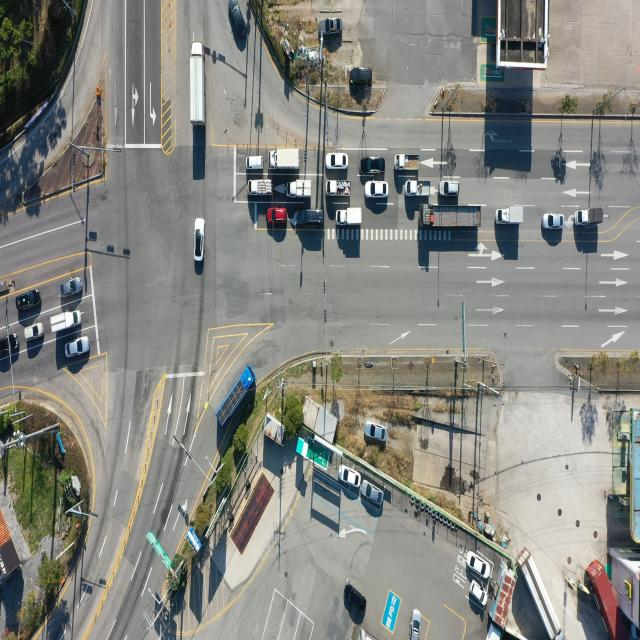car: (227, 0, 247, 41), (343, 582, 367, 612), (469, 553, 492, 580), (294, 208, 322, 228), (318, 16, 344, 37), (361, 483, 384, 506), (65, 338, 89, 360), (17, 290, 42, 311), (340, 464, 362, 487), (471, 581, 489, 608), (360, 156, 385, 175), (61, 278, 84, 298), (196, 219, 206, 262), (364, 422, 386, 441), (0, 336, 18, 359), (352, 67, 373, 85), (365, 181, 387, 198), (410, 609, 422, 640), (326, 154, 347, 171), (268, 207, 288, 224), (544, 213, 565, 229), (25, 323, 44, 340), (441, 180, 461, 196), (246, 156, 264, 172)
large_bus: (216, 362, 260, 432)
medium_truck: (520, 546, 564, 637), (191, 39, 208, 125), (418, 207, 480, 230), (270, 147, 301, 170)
small_truck: (51, 310, 82, 333), (575, 207, 604, 227), (495, 206, 523, 226), (337, 208, 364, 228), (287, 178, 313, 198), (406, 179, 433, 198), (250, 178, 274, 197), (327, 182, 352, 200), (394, 155, 419, 172)
